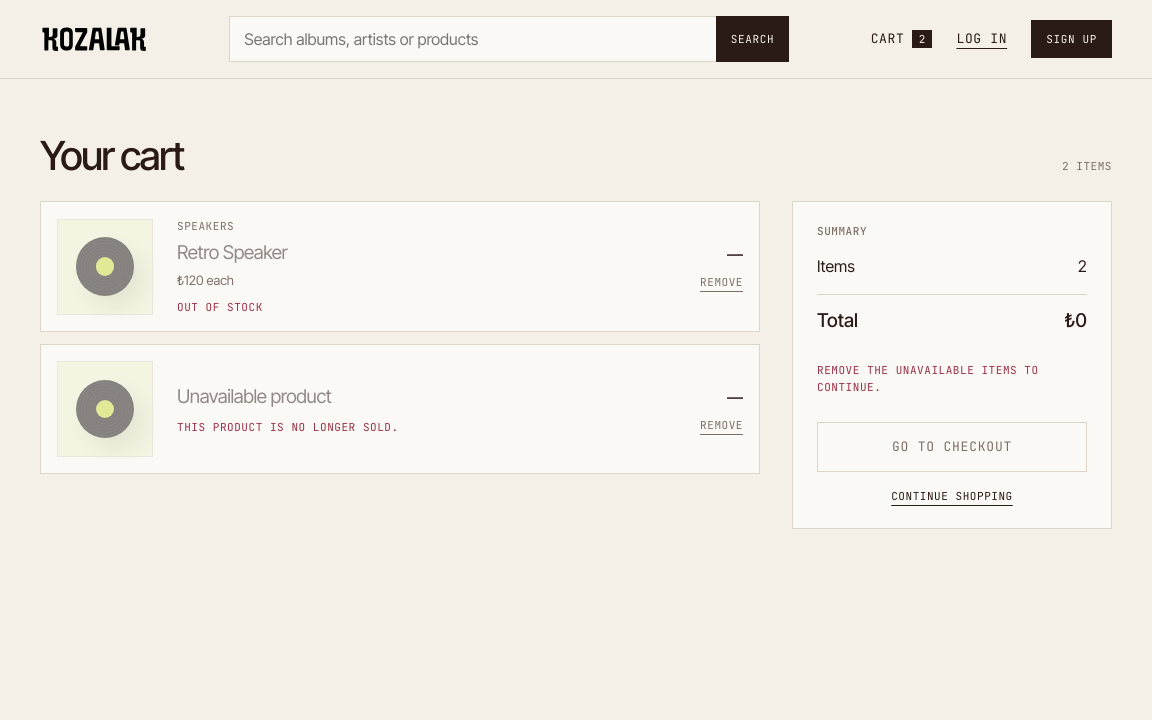
Test: CartPage (SHOP-113) › blocks checkout while an out-of-stock or deleted product is in the cart
expect the text "Out of stock" is shown: met, box [177,300,263,314]
expect the text "This product is no longer sold." is shown: met, box [177,420,399,434]
Click the button with aria-label "Remove Retro Speaker". click: coordinates (722, 283)
box: [700,274,743,291]
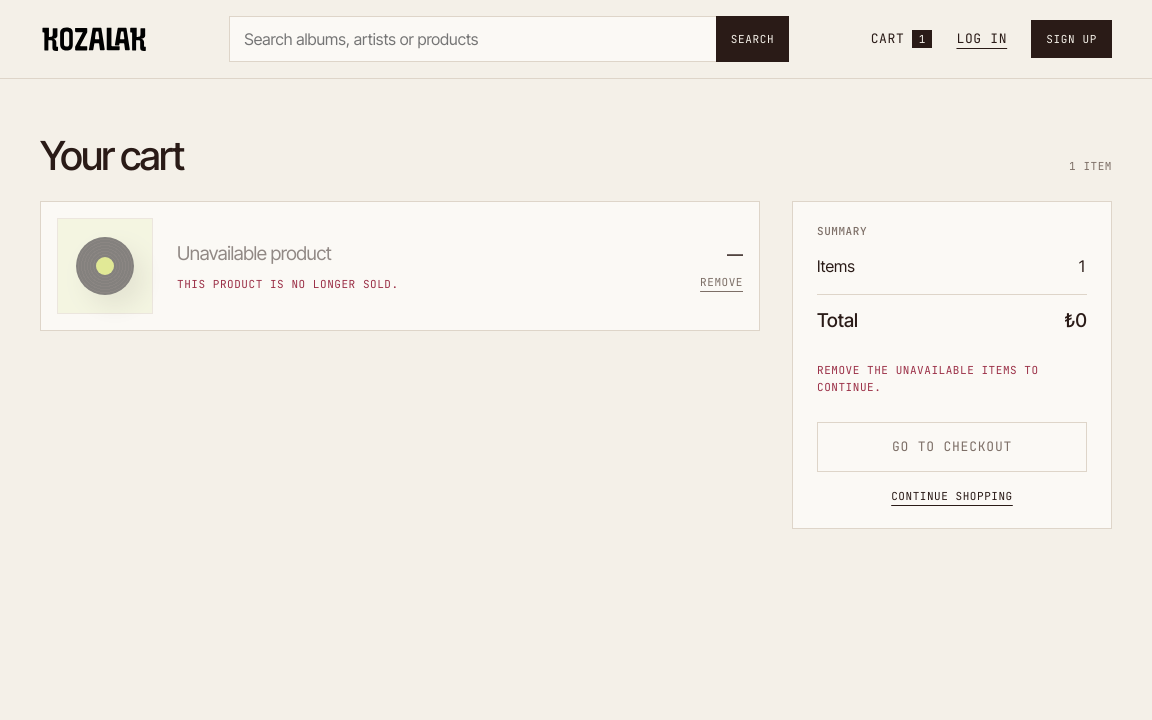
Click the button with aria-label "Remove Unavailable product". click: coordinates (722, 282)
box: [700,274,743,290]
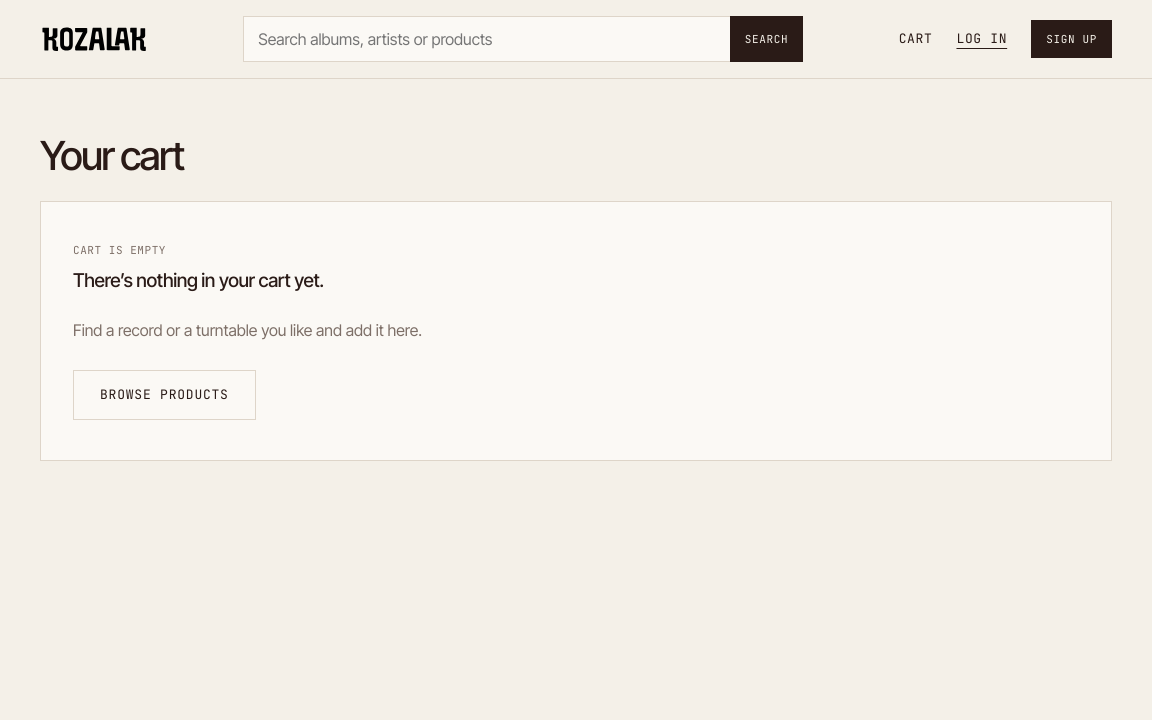
expect the heading "There’s nothing in your cart yet." is shown: met, box [73,270,324,290]
